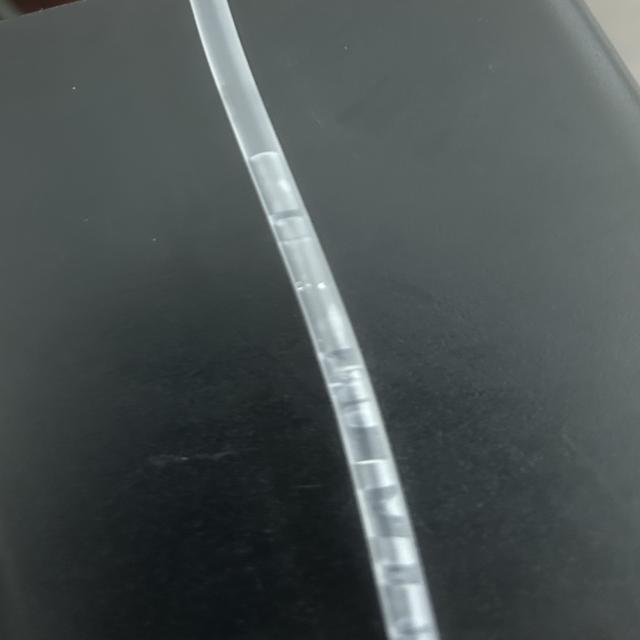bubble: (244, 151, 302, 212), (373, 582, 448, 628), (315, 362, 379, 402), (364, 531, 431, 569), (341, 456, 412, 487), (265, 215, 325, 243), (361, 497, 423, 523), (336, 402, 385, 432)
